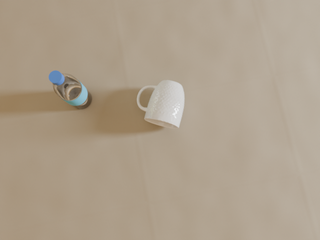bottle: (49, 71, 92, 109)
cup: (137, 80, 184, 129)
